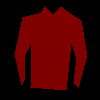abbigliamento_uomo: (14, 5, 87, 90)
